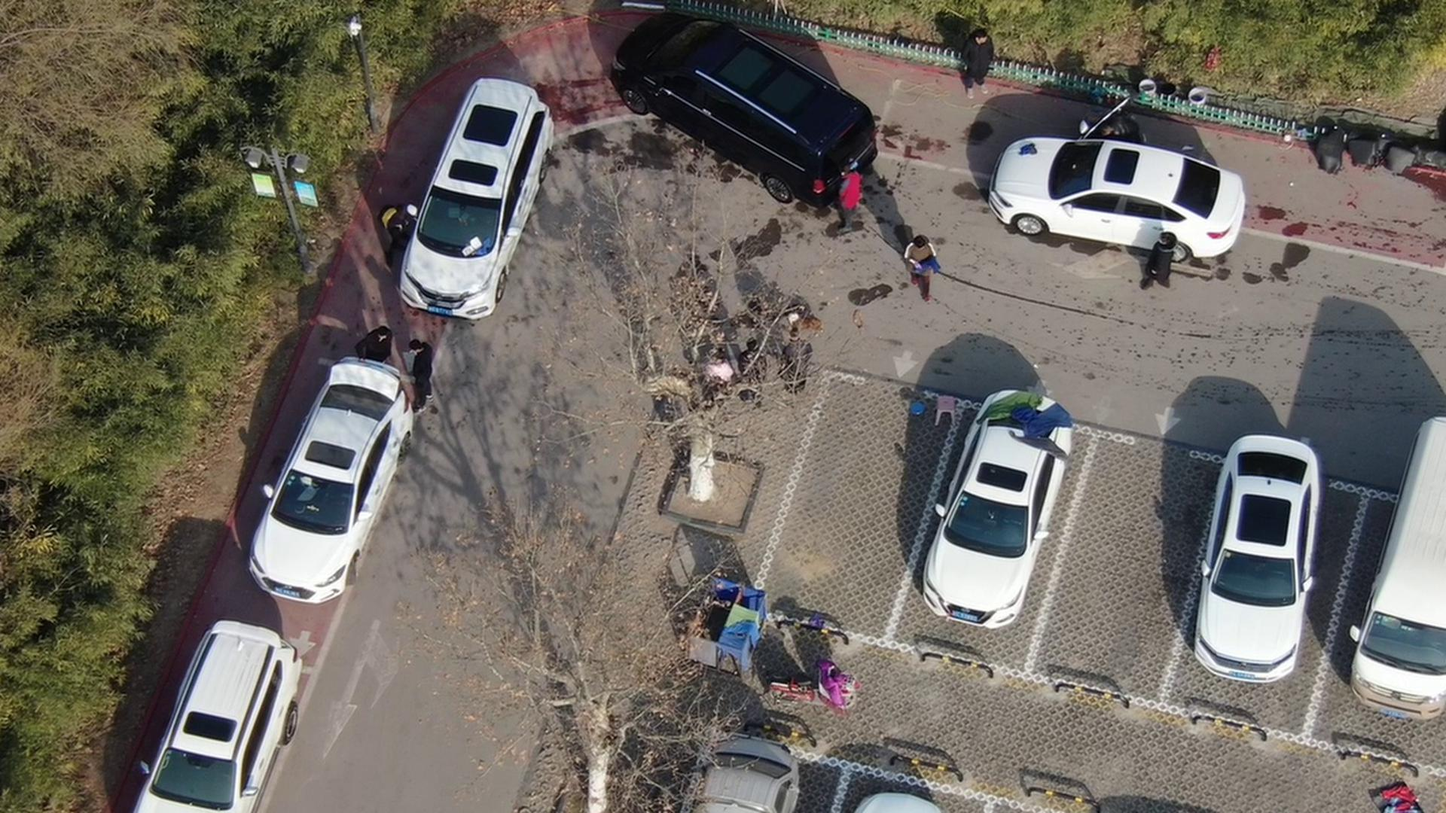human: (906, 228, 946, 309), (971, 23, 1010, 100), (738, 334, 777, 406), (1145, 223, 1184, 292), (842, 157, 874, 240), (412, 337, 441, 417), (386, 204, 421, 269), (360, 324, 398, 375), (784, 340, 814, 400), (1112, 108, 1152, 142)
